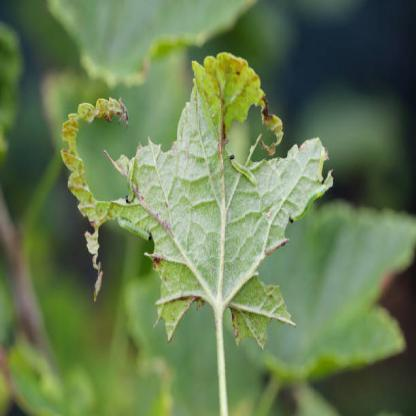sawfly: (288, 182, 326, 226), (228, 152, 258, 186), (118, 216, 154, 243), (124, 155, 138, 204), (317, 144, 326, 185)
